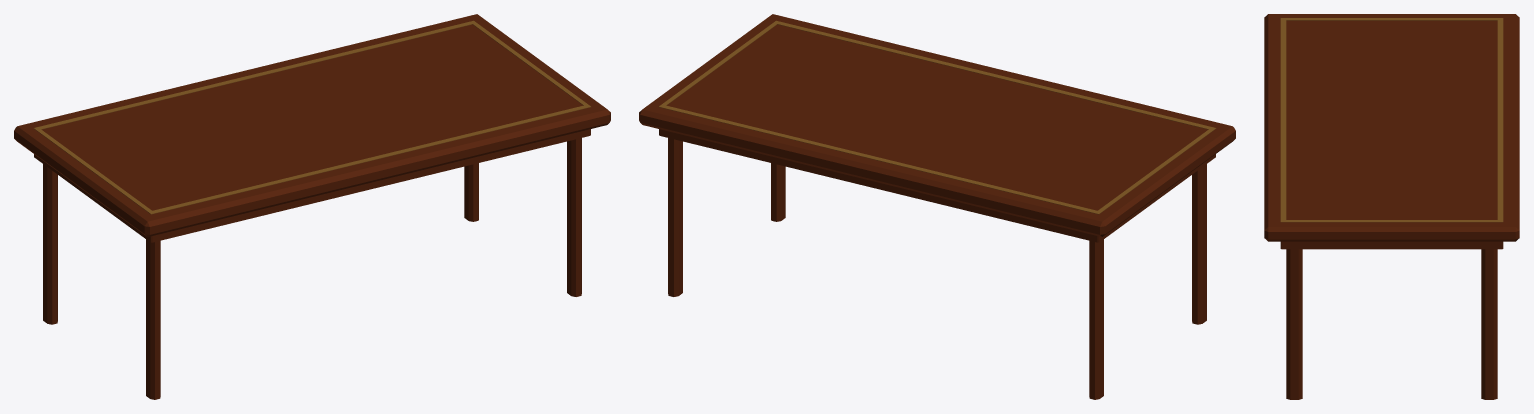
File: brownWoodTable.fbx
3 renders of one model, left to right at view 1: azimuth 30°, elevation 25°; view 2: azimuth 150°, elevation 25°; view 3: azimuth 270°, elevation 25°, orthographic. The views are drawn at different scales.
Visible parts, largest first — view 1: brownWoodTable; view 2: brownWoodTable; view 3: brownWoodTable.
Boxes of the visible parts, <box> form: brownWoodTable: <box>14,14,610,399</box>; brownWoodTable: <box>639,14,1235,399</box>; brownWoodTable: <box>1264,14,1519,399</box>.
Bounding box in the file's own units: 180 × 70 × 90.
